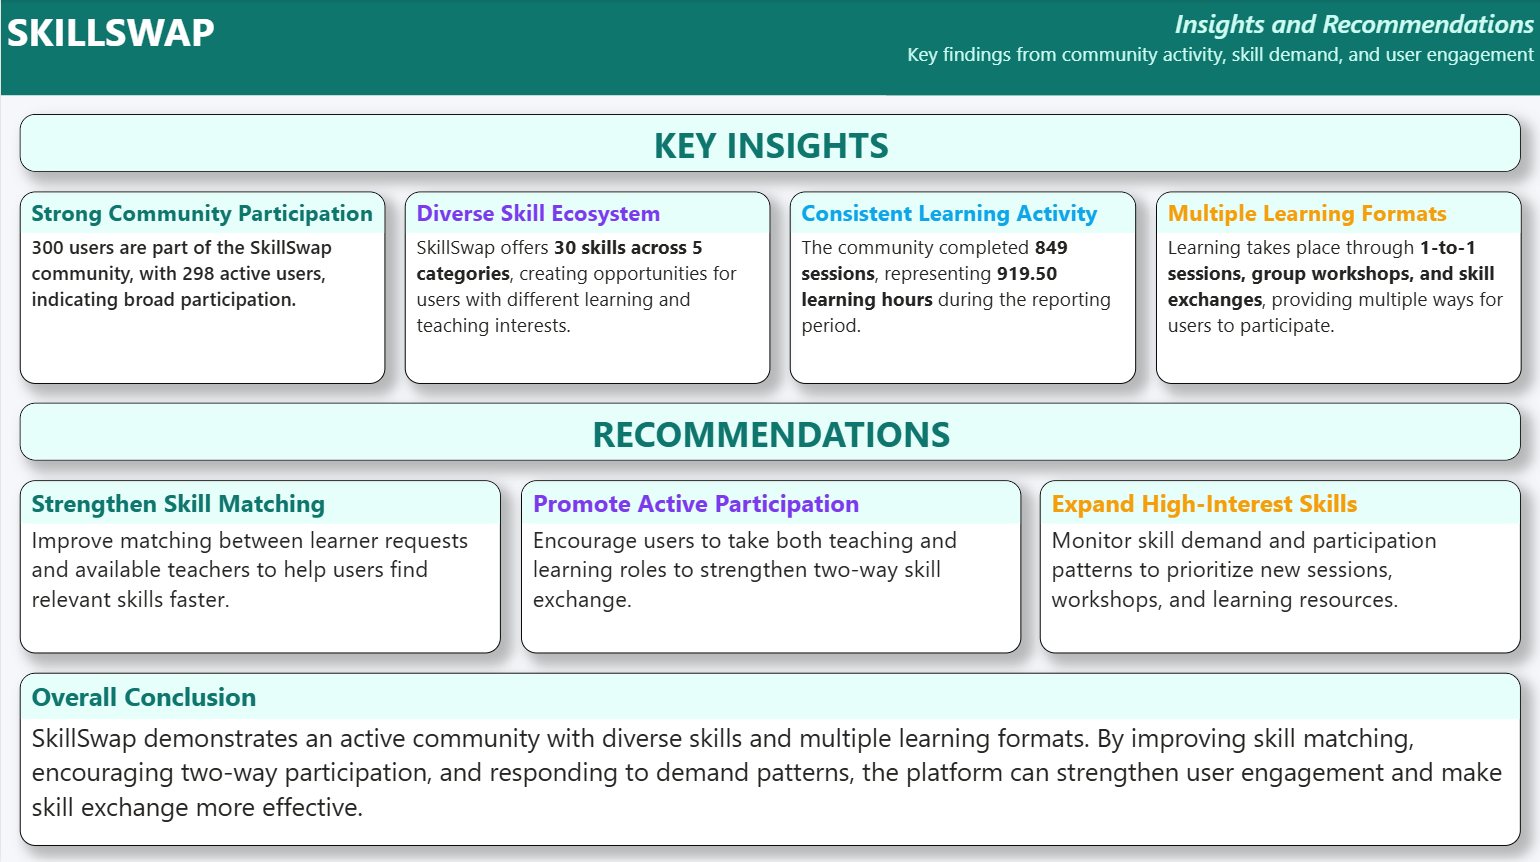

The page's visual inventory and layout, read from the dashboard file:
{"tool":"powerbi","page":{"name":"Insights and Recommendations","canvas":[1280,720],"ordinal":4},"visuals":[{"type":"textbox","box":[0,0,1280,80],"z":0},{"type":"textbox","box":[736,0,544,80],"z":1000},{"type":"textbox","title":"Strong Community Participation","box":[16,160,304,160],"z":2000},{"type":"textbox","title":"Consistent Learning Activity","box":[656,160,288,160],"z":3000},{"type":"textbox","title":"Diverse Skill Ecosystem","box":[336,160,304,160],"z":4000},{"type":"textbox","title":"Multiple Learning Formats","box":[960,160,304,160],"z":5000},{"type":"textbox","title":"Strengthen Skill Matching","box":[16,400,400,144],"z":6000},{"type":"textbox","title":"Promote Active Participation","box":[432,400,416,144],"z":7000},{"type":"textbox","title":"Expand High-Interest Skills","box":[864,400,400,144],"z":8000},{"type":"textbox","title":"Overall Conclusion","box":[16,560,1248,144],"z":9000},{"type":"textbox","title":"KEY INSIGHTS","box":[16,96,1248,48],"z":10000},{"type":"textbox","title":"RECOMMENDATIONS","box":[16,336,1248,48],"z":11000}]}

Visuals, with their boxes in screenshot pixels (x1, y1, x2, y2), scaled from the page's 1280x720 canvas onto the 1540x862 screenshot:
textbox: [0, 0, 1539, 96]
textbox: [886, 0, 1539, 96]
"Strong Community Participation" textbox: [19, 192, 385, 383]
"Consistent Learning Activity" textbox: [789, 192, 1136, 383]
"Diverse Skill Ecosystem" textbox: [404, 192, 770, 383]
"Multiple Learning Formats" textbox: [1155, 192, 1521, 383]
"Strengthen Skill Matching" textbox: [19, 479, 500, 651]
"Promote Active Participation" textbox: [520, 479, 1020, 651]
"Expand High-Interest Skills" textbox: [1040, 479, 1521, 651]
"Overall Conclusion" textbox: [19, 670, 1521, 843]
"KEY INSIGHTS" textbox: [19, 115, 1521, 172]
"RECOMMENDATIONS" textbox: [19, 402, 1521, 460]
